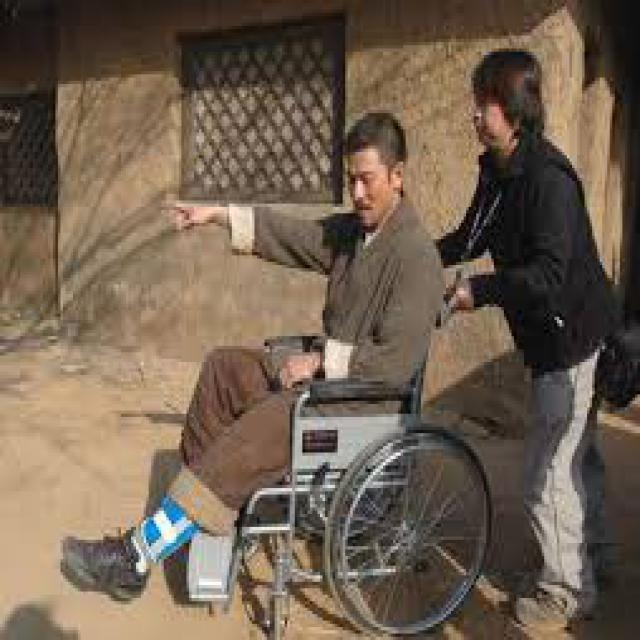wheelchairs: (181, 262, 494, 637)
